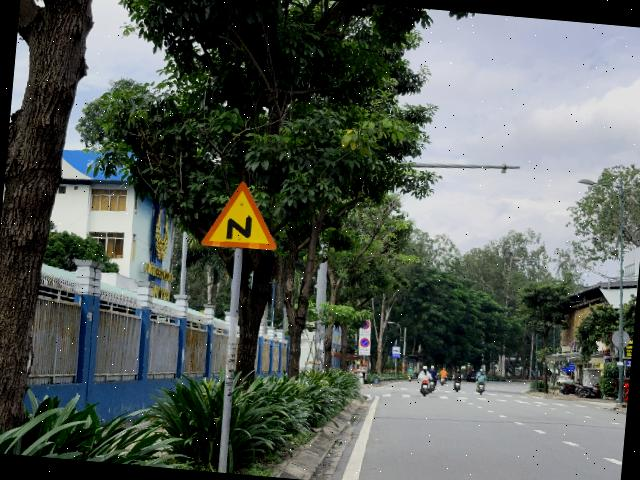nhieu-cho-ngoat-nguy-hiem-lien-tiep: (201, 178, 281, 251)
